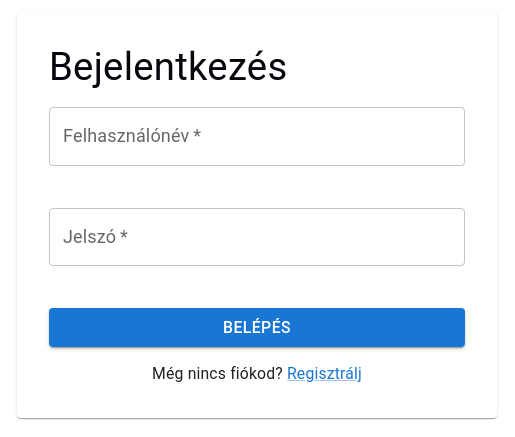
it: Login oldal › üres submit esetén validációs hibákat jelenít meg
What coordinates should you click on to do the following:
click the button "Belépés"
I would click on:
 (257, 328)
Its box is 49,308 -> 465,347.
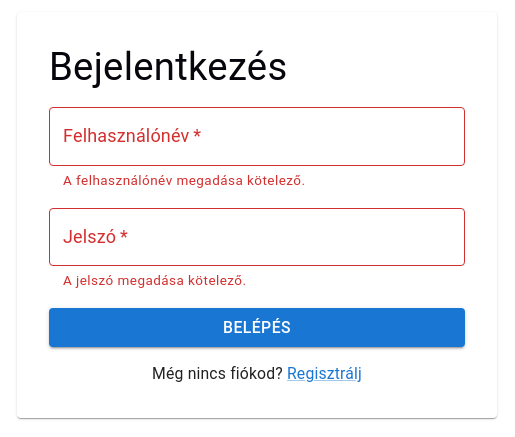
Result: the text "A felhasználónév megadása kötelező." is shown at 63,172 -> 306,188
Result: the text "A jelszó megadása kötelező." is shown at 63,272 -> 246,288
